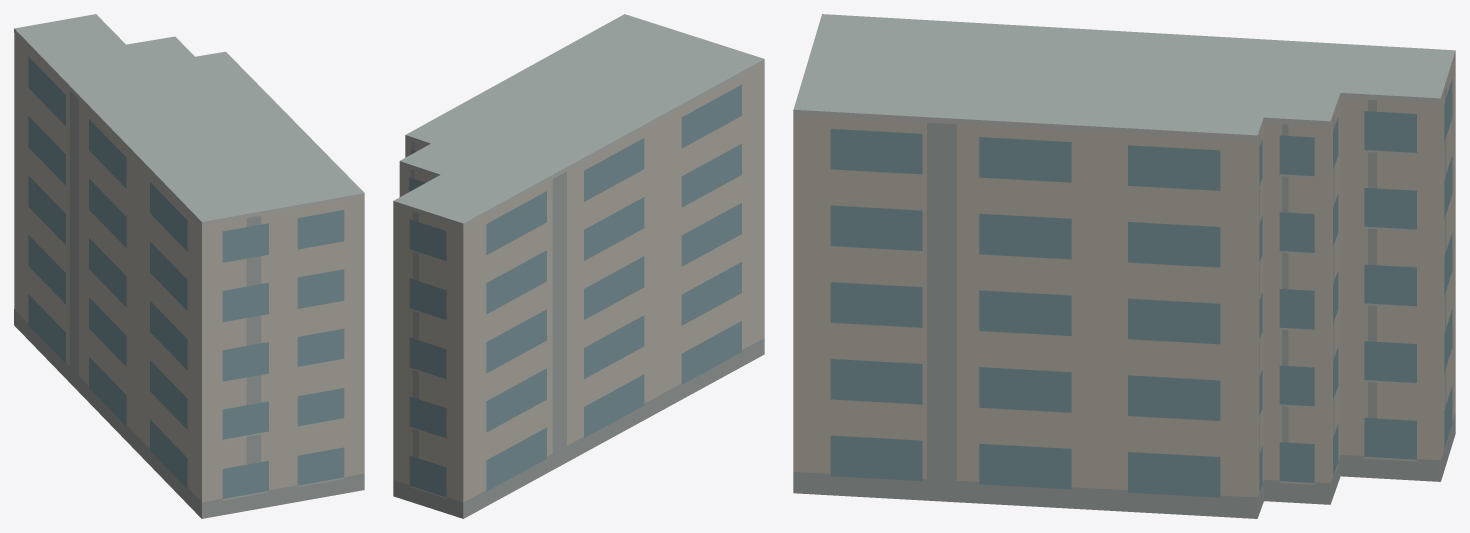
Rendered from survey-upis-32751270.glb.
The picture shows the model from 3 angles, left to right: view 1: azimuth 30°, elevation 25°; view 2: azimuth 150°, elevation 25°; view 3: azimuth 270°, elevation 25°; orthographic projection. The views are drawn at different scales.
Parts seen in each view (by area): view 1: survey-upis-32751270.tmp; view 2: survey-upis-32751270.tmp; view 3: survey-upis-32751270.tmp.
Part boxes in pixels (x1,y1,x2,y2): survey-upis-32751270.tmp: (14, 14, 364, 518); survey-upis-32751270.tmp: (393, 14, 764, 518); survey-upis-32751270.tmp: (793, 14, 1455, 518).
Bounding box in the file's own units: 11.35 × 16.7 × 26.14.
